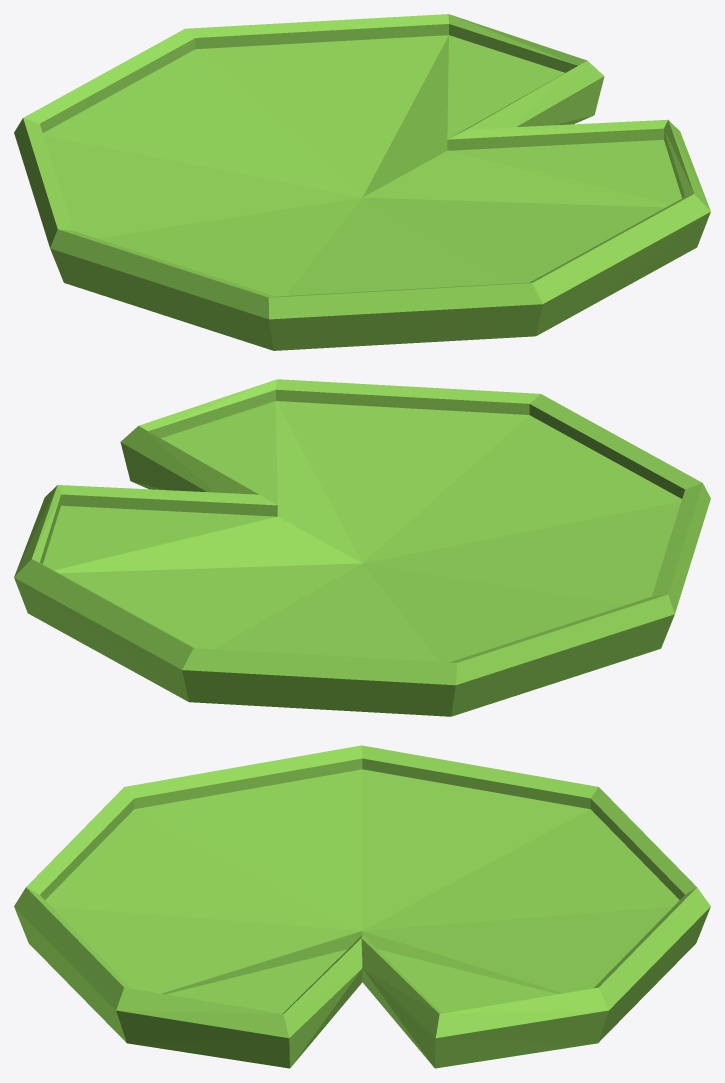
File: lilypad.fbx
The picture shows the model from 3 angles, top to bottom: view 1: azimuth 30°, elevation 25°; view 2: azimuth 150°, elevation 25°; view 3: azimuth 270°, elevation 25°; orthographic projection. The views are drawn at different scales.
Parts seen in each view (by area): view 1: lilypad; view 2: lilypad; view 3: lilypad.
Boxes of the visible parts, x1,y1,x2,y2 form: lilypad: (14, 14, 710, 350); lilypad: (14, 379, 710, 716); lilypad: (14, 745, 710, 1068).
Size of the model in its own units: 102 by 11.11 by 108.
